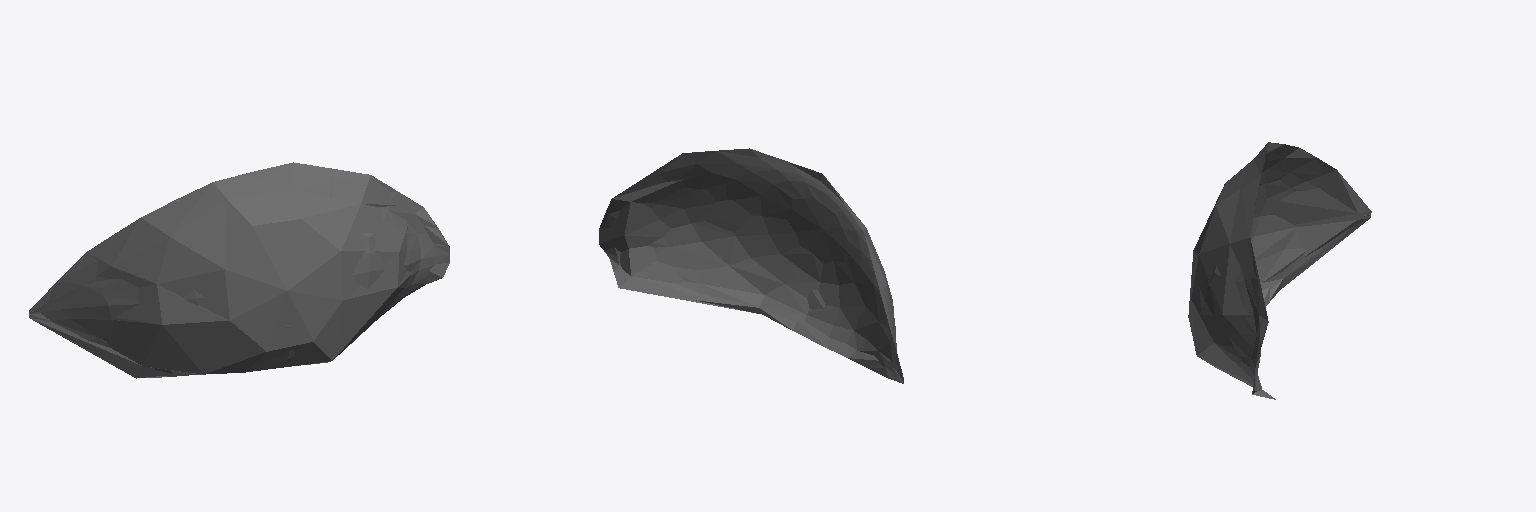
Rendered from ochi_drept.obj.
The picture shows the model from 3 angles: view 1: azimuth 30°, elevation 25°; view 2: azimuth 150°, elevation 25°; view 3: azimuth 270°, elevation 25°; orthographic projection.
Visible parts, largest first — view 1: eyeR_lo.005, eyeR_hi.005; view 2: eyeR_hi.005, eyeR_lo.005; view 3: eyeR_lo.005, eyeR_hi.005.
Boxes of the visible parts, <box> form: eyeR_lo.005: <box>30,162,448,377</box>; eyeR_hi.005: <box>29,163,449,378</box>; eyeR_hi.005: <box>600,148,903,383</box>; eyeR_lo.005: <box>599,149,903,383</box>; eyeR_lo.005: <box>1188,143,1371,399</box>; eyeR_hi.005: <box>1199,142,1371,398</box>.
Bounding box in the file's own units: 2.4 × 1.18 × 1.05.